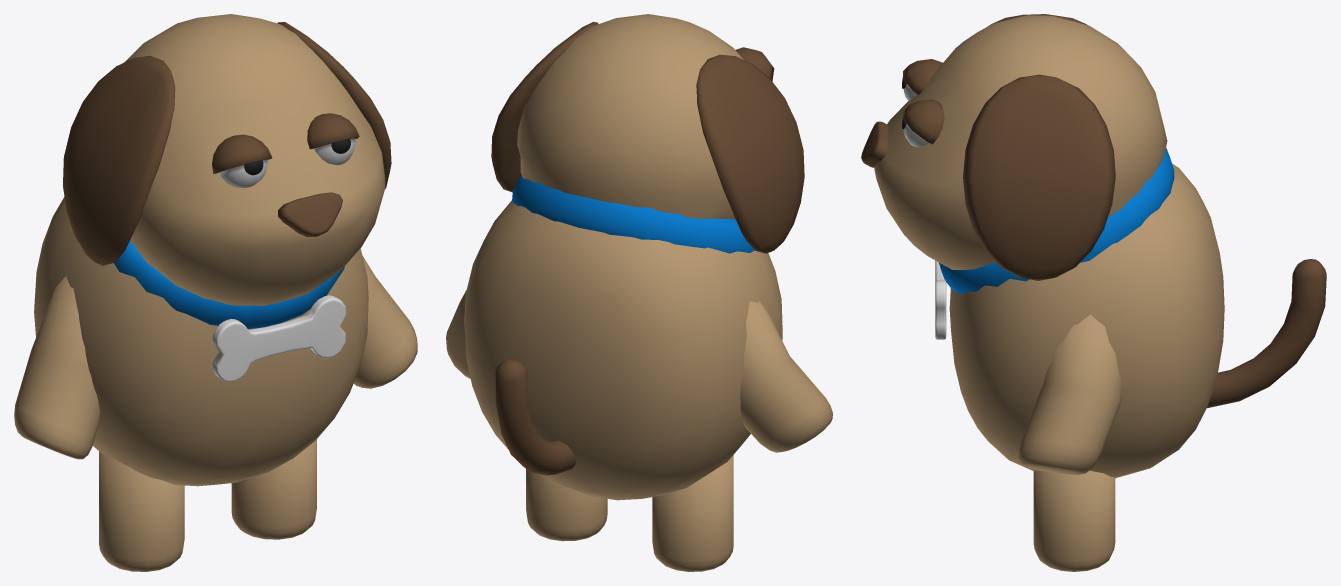
The model's file is Chien2.fbx.
The picture shows the model from 3 angles, left to right: view 1: azimuth 30°, elevation 25°; view 2: azimuth 150°, elevation 25°; view 3: azimuth 270°, elevation 25°; orthographic projection. The views are drawn at different scales.
Visible parts, largest first — view 1: Chien.012; view 2: Chien.012; view 3: Chien.012.
Part boxes in pixels (x1,y1,x2,y2): Chien.012: (14, 14, 417, 571); Chien.012: (446, 14, 832, 571); Chien.012: (861, 14, 1326, 571).
Bounding box in the file's own units: 54.01 × 69.67 × 58.68.
